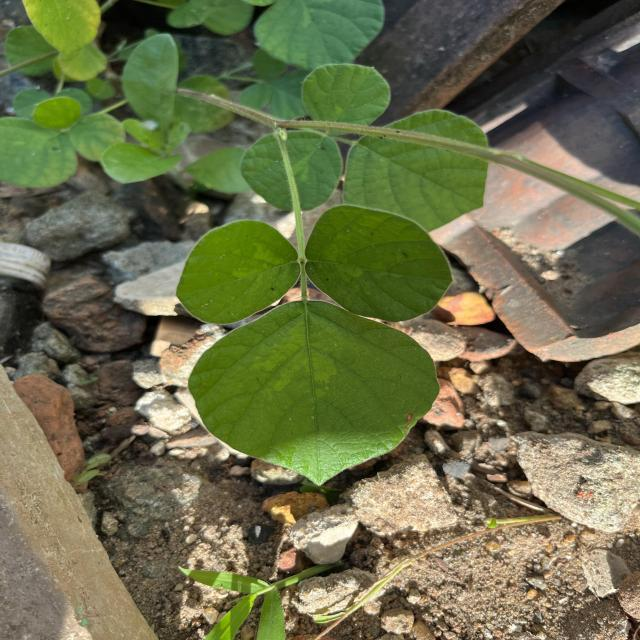Pseudarthria viscida: (175, 202, 458, 487)
